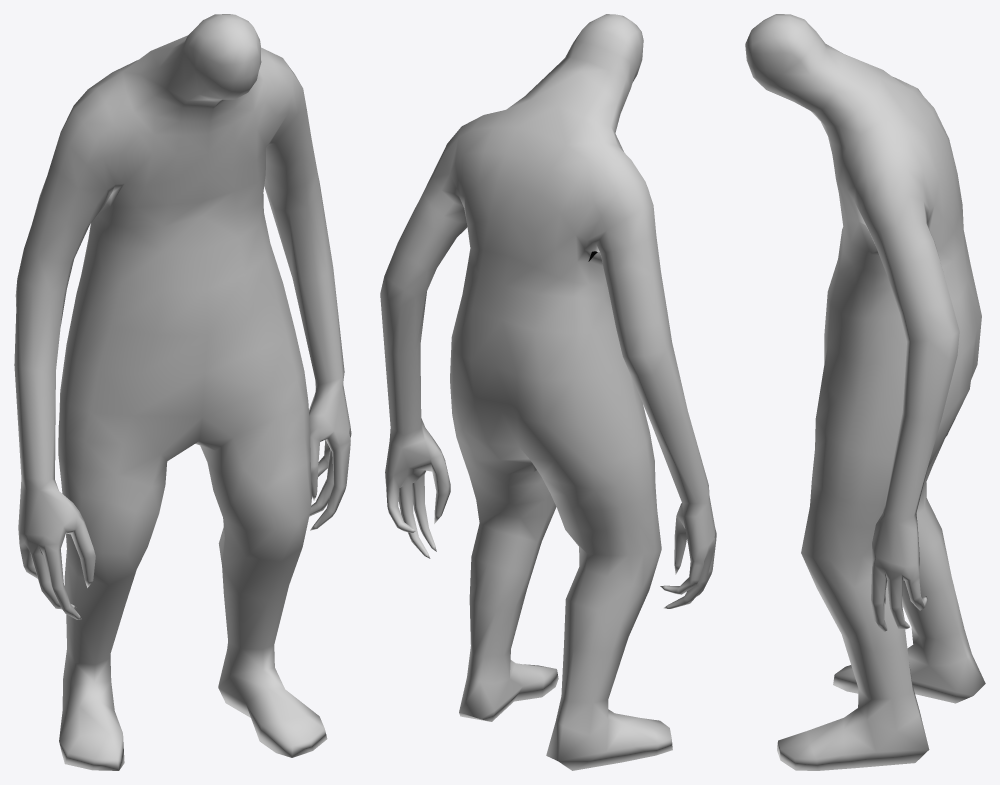
File: 206-umibozu.glb
3 views of the same model, side by side, from view 1: azimuth 30°, elevation 25°; view 2: azimuth 150°, elevation 25°; view 3: azimuth 270°, elevation 25° (orthographic). The views are drawn at different scales.
Size of the model in its own units: 2.92 by 6.18 by 1.91.
Materials: 3 (3 with a texture image).
